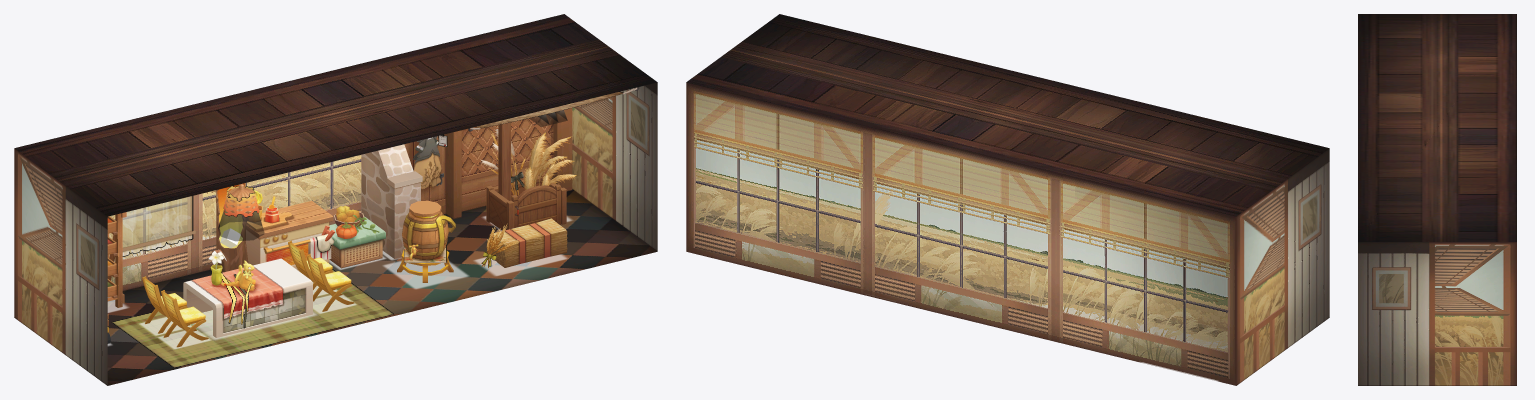
Rendered from countryside.glb.
The picture shows the model from 3 angles, left to right: view 1: azimuth 30°, elevation 25°; view 2: azimuth 150°, elevation 25°; view 3: azimuth 270°, elevation 25°; orthographic projection. The views are drawn at different scales.
Visible parts, largest first — view 1: ROOM_room, ROOM_floor, furni_countryside_woodenWall_01, furni_countryside_carpet_01, furni_countryside_table_01, furni_countryside_partitionWall_01, furni_countryside_oven_01, furni_countryside_storage_01, furni_countryside_curtain_02, furni_countryside_barrel_01, furni_countryside_table_02, furni_countryside_haystack_02 (+17 smaller); view 2: ROOM_room, ROOM_LDoor; view 3: ROOM_room, ROOM_RDoor.
Part boxes in pixels (<box>): ROOM_room: <box>14,14,657,385</box>; ROOM_floor: <box>107,189,657,385</box>; furni_countryside_woodenWall_01: <box>404,108,572,218</box>; furni_countryside_carpet_01: <box>111,269,393,367</box>; furni_countryside_table_01: <box>183,258,312,337</box>; furni_countryside_partitionWall_01: <box>361,144,422,258</box>; furni_countryside_oven_01: <box>245,190,335,271</box>; furni_countryside_storage_01: <box>486,122,566,230</box>; furni_countryside_curtain_02: <box>122,196,193,256</box>; furni_countryside_barrel_01: <box>397,200,455,282</box>; furni_countryside_table_02: <box>192,249,282,328</box>; furni_countryside_haystack_02: <box>489,218,567,267</box>; ROOM_room: <box>686,14,1329,385</box>; ROOM_LDoor: <box>1297,251,1315,341</box>; ROOM_room: <box>1358,14,1516,385</box>; ROOM_RDoor: <box>1381,320,1413,385</box>.
Size of the model in its own units: 7.48 by 2.2 by 2.26.
Materials: 7 (7 with a texture image).
